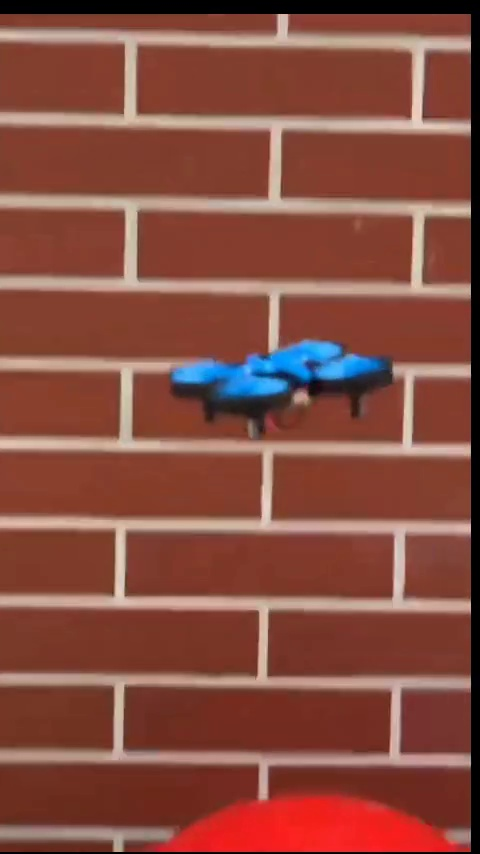drone: (172, 338, 398, 438)
